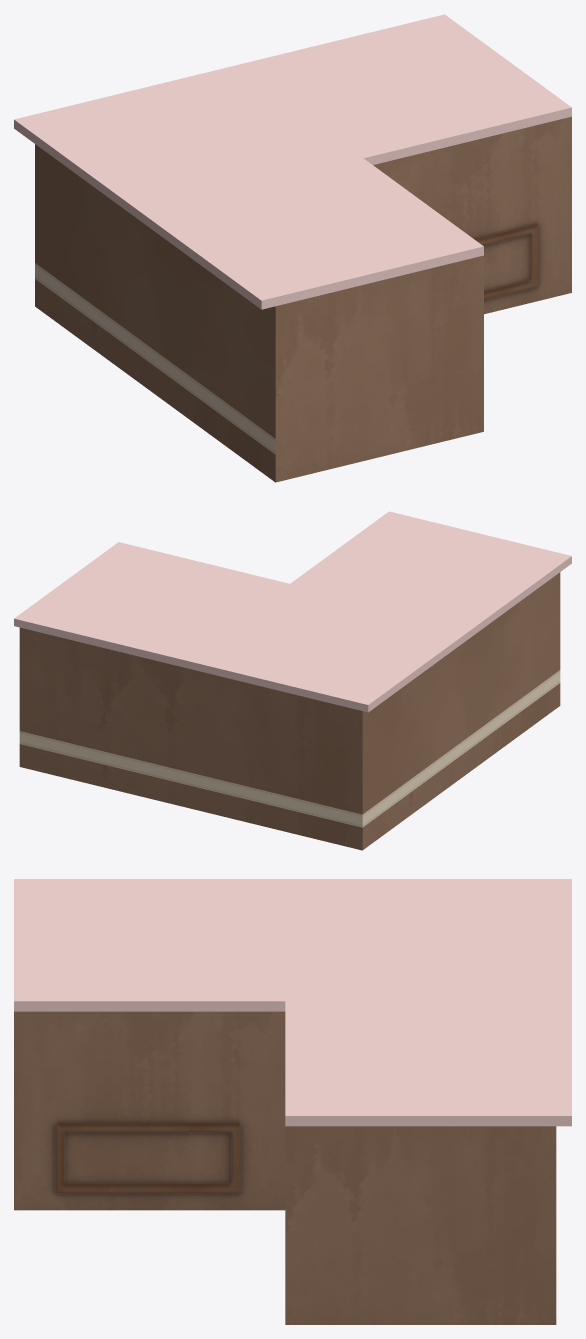
The model's file is Counter2.fbx.
3 views of the same model, one above another, from view 1: azimuth 30°, elevation 25°; view 2: azimuth 150°, elevation 25°; view 3: azimuth 270°, elevation 25° (orthographic). The views are drawn at different scales.
Visible parts, largest first — view 1: pCube390; view 2: pCube390; view 3: pCube390.
Boxes of the visible parts, left/top/right/bottom form: pCube390: left=14, top=14, right=571, bottom=482; pCube390: left=14, top=511, right=571, bottom=850; pCube390: left=14, top=879, right=571, bottom=1324.
Bounding box in the file's own units: 207 × 85 × 206.
